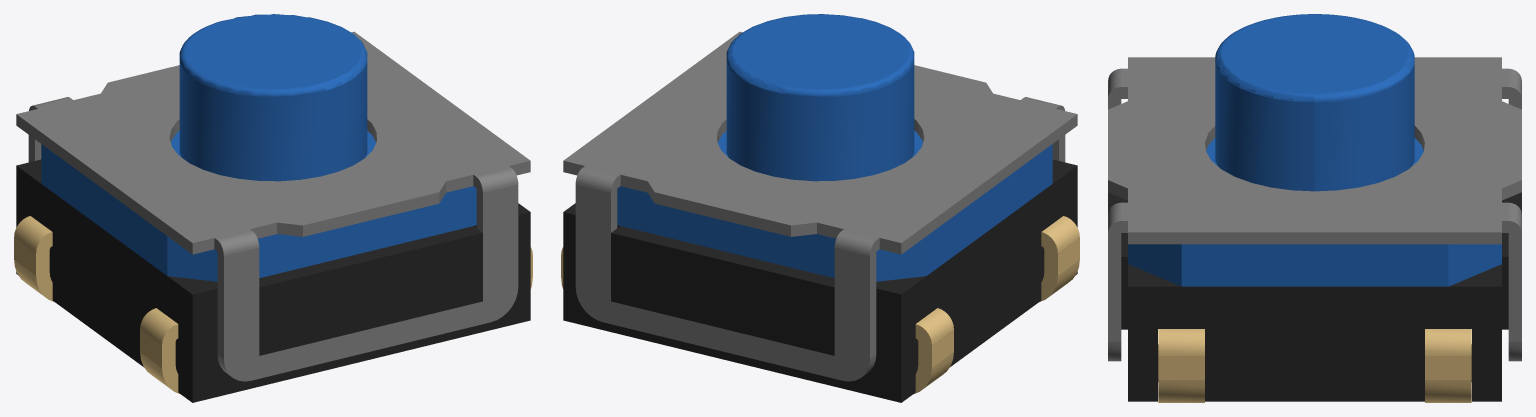
Rendered from kc-sw_push_1p1t_no_ck_ksc7xxj.glb.
3 views of the same model, side by side, from view 1: azimuth 30°, elevation 25°; view 2: azimuth 150°, elevation 25°; view 3: azimuth 270°, elevation 25° (orthographic). The views are drawn at different scales.
Parts seen in each view (by area): view 1: 0.25_0.25_0.25_0, 0_0.16666666666666666_0.5_0, 0_0_0_0, 0.75_0.5_0.25_0.9; view 2: 0.25_0.25_0.25_0, 0_0.16666666666666666_0.5_0, 0_0_0_0, 0.75_0.5_0.25_0.9; view 3: 0.25_0.25_0.25_0, 0_0.16666666666666666_0.5_0, 0_0_0_0, 0.75_0.5_0.25_0.9.
Part boxes in pixels (box(x1,y1,x2,y2)): 0.25_0.25_0.25_0: box(16, 31, 530, 381); 0_0.16666666666666666_0.5_0: box(41, 14, 476, 281); 0_0_0_0: box(16, 159, 530, 402); 0.75_0.5_0.25_0.9: box(14, 216, 532, 394); 0.25_0.25_0.25_0: box(563, 31, 1077, 381); 0_0.16666666666666666_0.5_0: box(617, 14, 1052, 281); 0_0_0_0: box(563, 159, 1077, 402); 0.75_0.5_0.25_0.9: box(561, 216, 1079, 394); 0.25_0.25_0.25_0: box(1108, 57, 1521, 361); 0_0.16666666666666666_0.5_0: box(1128, 14, 1501, 286); 0_0_0_0: box(1108, 192, 1521, 401); 0.75_0.5_0.25_0.9: box(1158, 329, 1471, 402).
Size of the model in its own units: 0.68 by 0.44 by 0.62.
